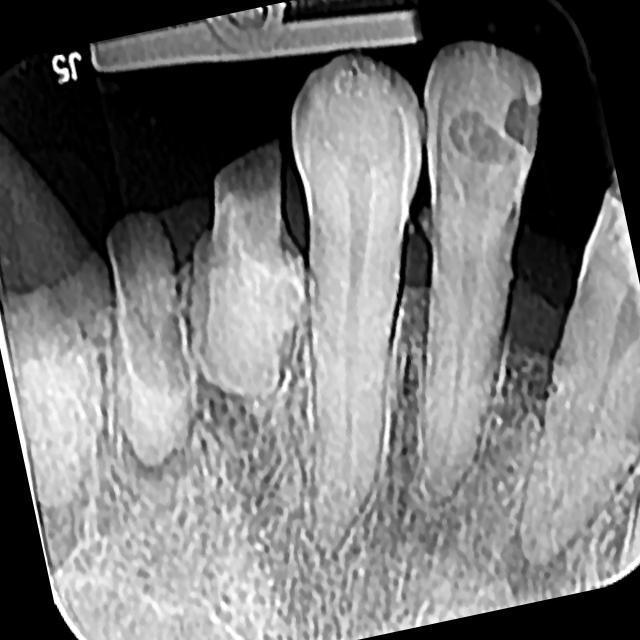individual-tooth-8tto: (290, 57, 425, 554), (410, 41, 536, 499), (189, 144, 300, 400), (100, 204, 192, 461)
